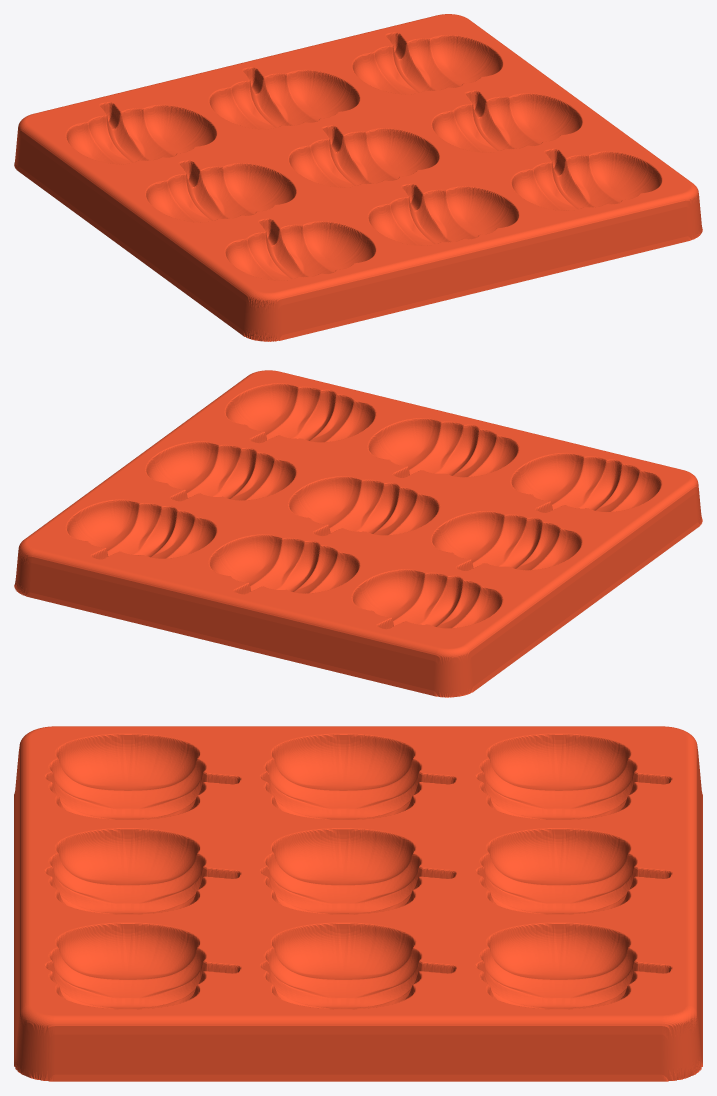
Rendered from mold.glb.
The picture shows the model from 3 angles, top to bottom: view 1: azimuth 30°, elevation 25°; view 2: azimuth 150°, elevation 25°; view 3: azimuth 270°, elevation 25°; orthographic projection. The views are drawn at different scales.
Visible parts, largest first — view 1: geometry_0; view 2: geometry_0; view 3: geometry_0.
Boxes of the visible parts, bbox=[...] form: geometry_0: bbox=[14, 14, 702, 341]; geometry_0: bbox=[14, 370, 702, 697]; geometry_0: bbox=[14, 726, 702, 1081].
Size of the model in its own units: 0.1579 by 0.0145 by 0.1524.
